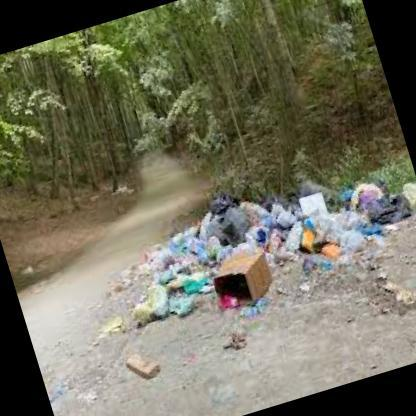Garbage: (276, 164, 415, 261), (144, 212, 289, 288), (199, 183, 273, 245), (132, 278, 202, 324)
